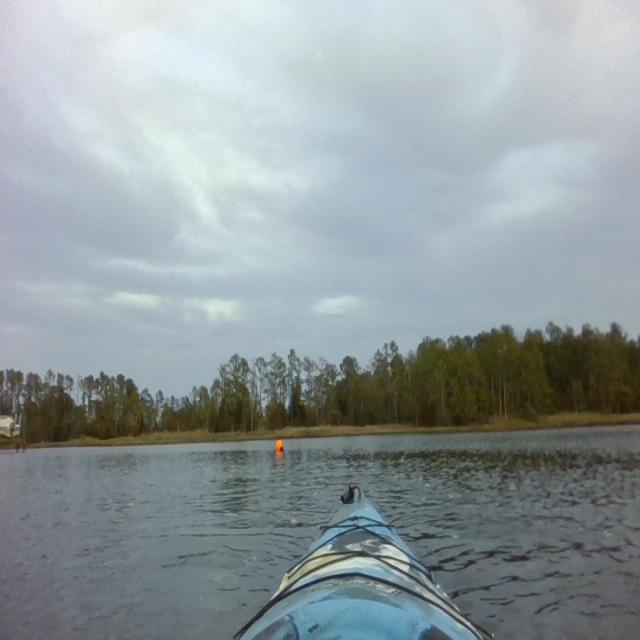Buoy: (274, 435, 286, 456)
